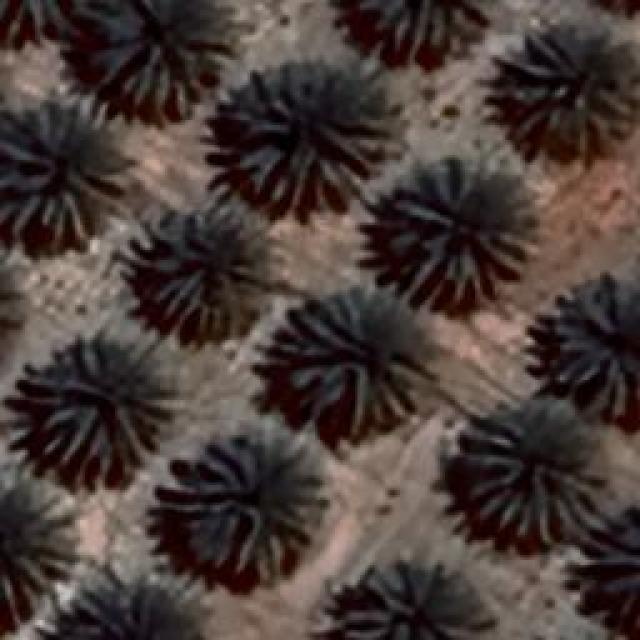PalmTree: (160, 420, 328, 585), (230, 60, 392, 218), (20, 332, 178, 482), (274, 290, 428, 435), (454, 400, 608, 542), (388, 160, 530, 310), (0, 102, 128, 248), (142, 202, 272, 340), (500, 22, 635, 150), (90, 0, 228, 125), (550, 282, 638, 418), (340, 560, 490, 638), (0, 475, 78, 603), (571, 501, 640, 633), (362, 0, 500, 55), (78, 585, 198, 640), (0, 0, 102, 51)
